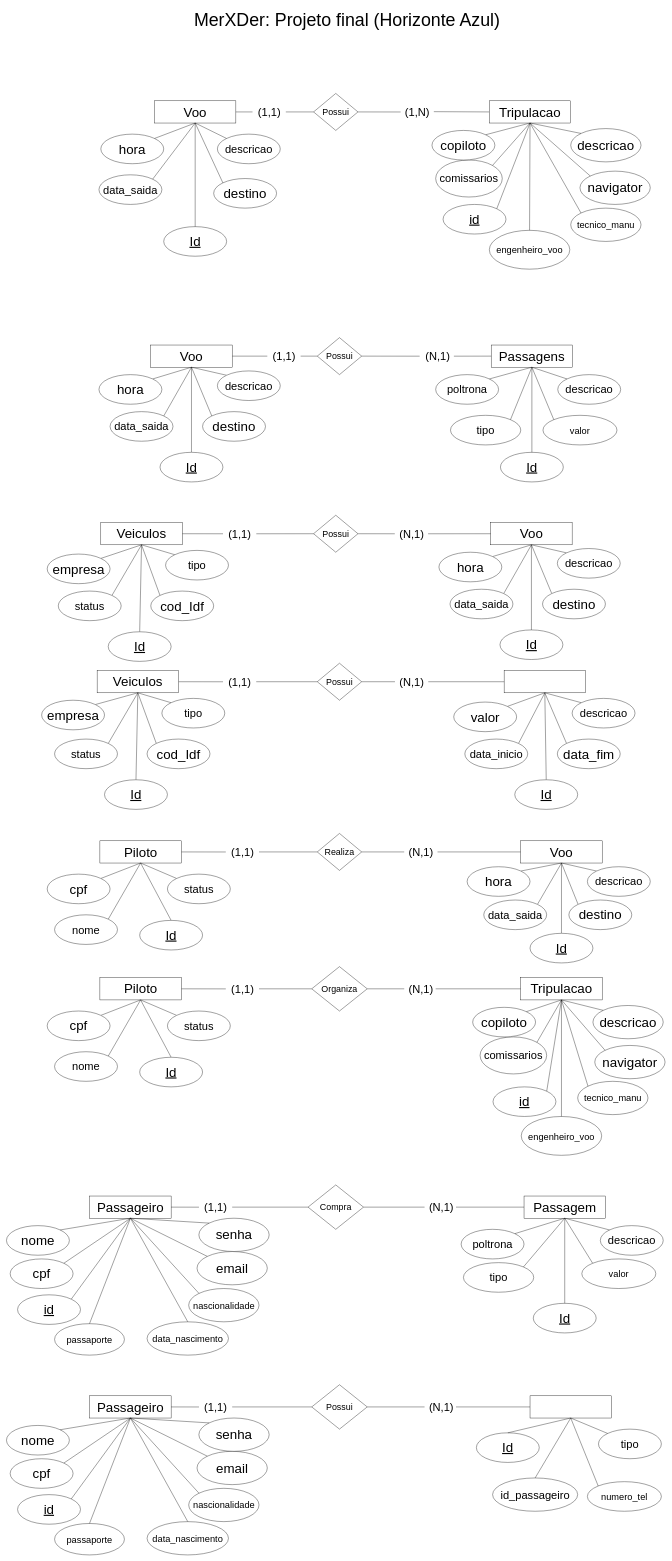
Image size: 672x1561. Some labels were removed from this diagram. The shapes that lost their labels are listed below. From the top down, each one's centre as x and y in pixels, then its label:
At pixel 545 681: "Manutencao".
At pixel 570 1406: "Contato".
